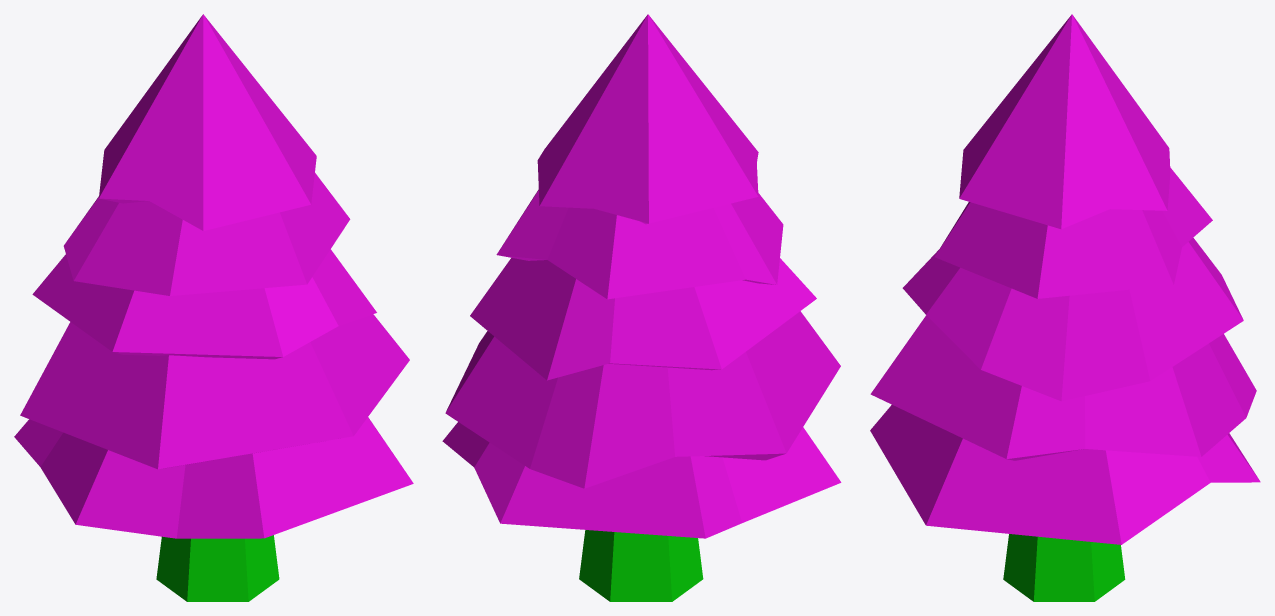
File: Pine Tree 2.fbx
3 renders of one model, left to right at view 1: azimuth 30°, elevation 25°; view 2: azimuth 150°, elevation 25°; view 3: azimuth 270°, elevation 25°, orthographic.
Parts seen in each view (by area): view 1: Pine Tree 2; view 2: Pine Tree 2; view 3: Pine Tree 2.
Boxes of the visible parts, box(x1,y1,x2,y2) form: Pine Tree 2: box(14, 14, 413, 601); Pine Tree 2: box(442, 14, 841, 601); Pine Tree 2: box(870, 14, 1260, 601).
Bounding box in the file's own units: 458 × 730 × 461.
